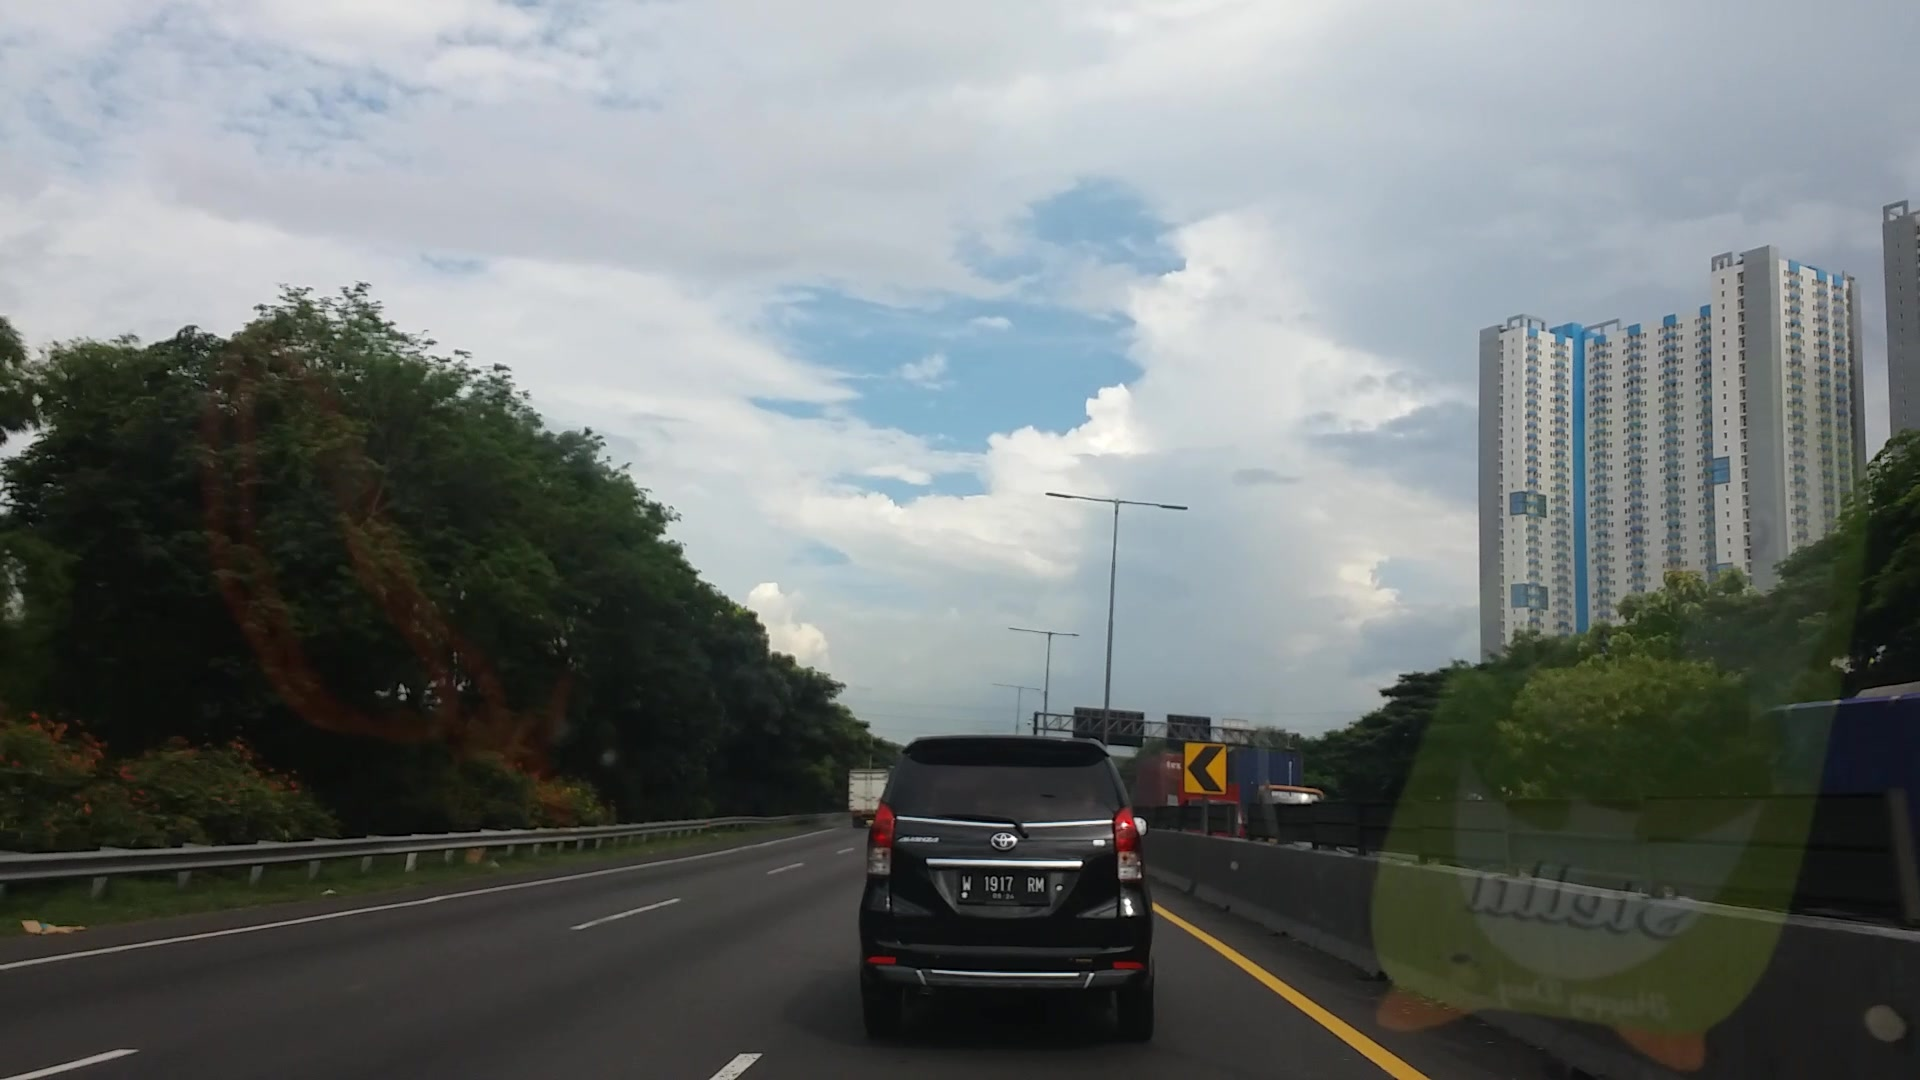plate_positive: (957, 872, 1047, 901)
